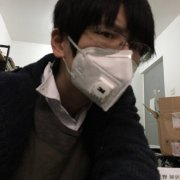face_mask: (73, 12, 141, 103)
